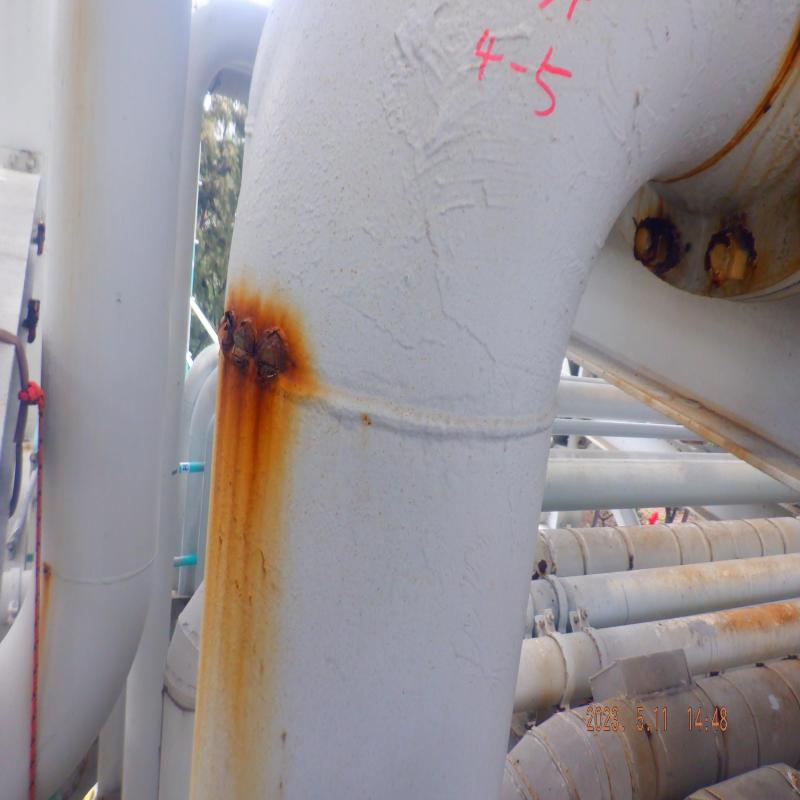corrosion: (214, 286, 295, 394), (644, 226, 755, 286), (219, 414, 267, 516)
